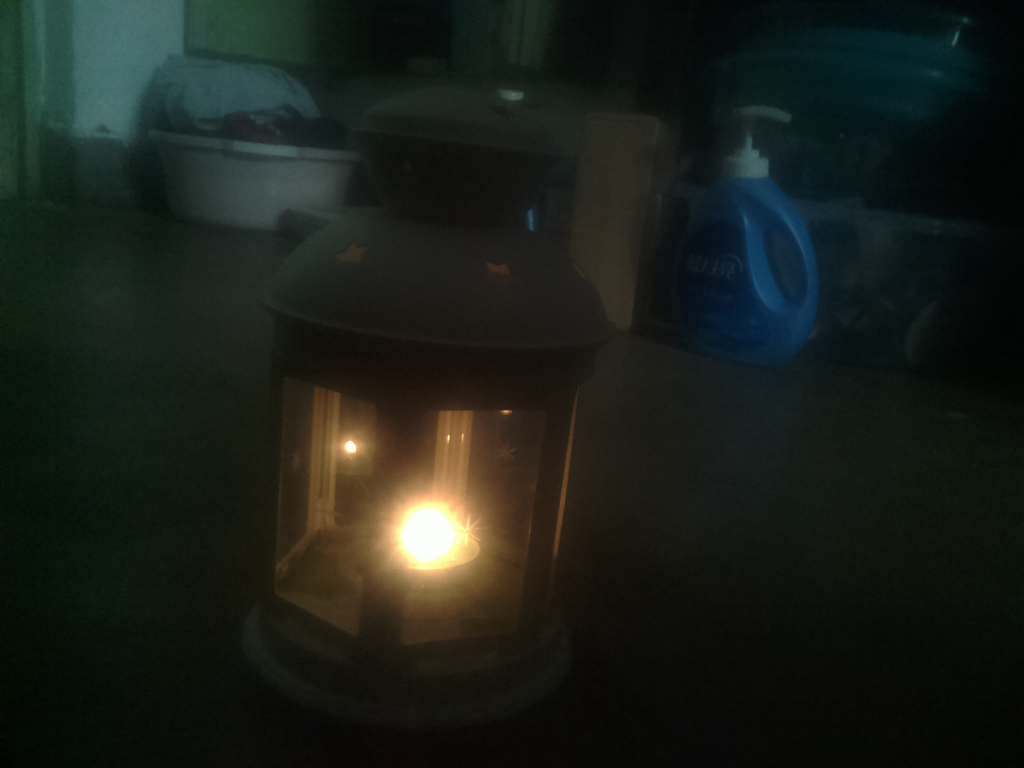fire: (391, 493, 495, 598)
